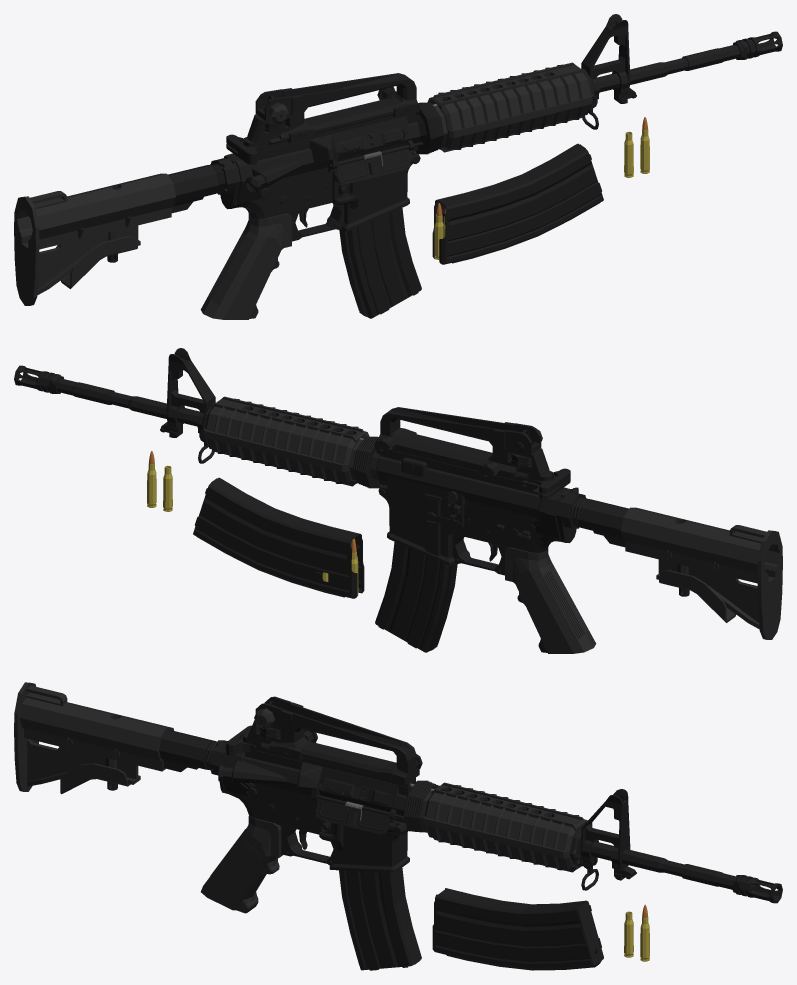
Rendered from colt_m4a1.glb.
3 views of the same model, one above another, from view 1: azimuth 30°, elevation 25°; view 2: azimuth 150°, elevation 25°; view 3: azimuth 330°, elevation 25° (orthographic).
Parts seen in each view (by area): view 1: m4a1 stock _14, 55645 ar15 30rnd mag (steel)_12, m4a1 lower receiver_0, m4a1 handguard_15, m4a1 carry handle_18, 55645 ar15 30rnd mag empty (steel)_13, m4a1 upper receiver_16, m4a1 barrel_9, m4a1 pistol grip_8, m4a1 dust cover_7, m4a1 bolt carrier_5, m4a1 flash hider_17 (+1 smaller); view 2: m4a1 stock _14, 55645 ar15 30rnd mag (steel)_12, m4a1 lower receiver_0, m4a1 handguard_15, m4a1 carry handle_18, m4a1 upper receiver_16, 55645 ar15 30rnd mag empty (steel)_13, m4a1 barrel_9, m4a1 pistol grip_8, m4a1 flash hider_17, m4a1 charging handle_3; view 3: m4a1 stock _14, 55645 ar15 30rnd mag (steel)_12, m4a1 lower receiver_0, m4a1 handguard_15, m4a1 carry handle_18, 55645 ar15 30rnd mag empty (steel)_13, m4a1 upper receiver_16, m4a1 barrel_9, m4a1 pistol grip_8, m4a1 dust cover_7, m4a1 flash hider_17, m4a1 bolt carrier_5.
Boxes of the visible parts, <box> form: m4a1 stock _14: <box>14,173,175,305</box>; 55645 ar15 30rnd mag (steel)_12: <box>432,143,603,264</box>; m4a1 lower receiver_0: <box>113,150,420,241</box>; m4a1 handguard_15: <box>427,62,594,152</box>; m4a1 carry handle_18: <box>247,73,419,143</box>; 55645 ar15 30rnd mag empty (steel)_13: <box>339,208,421,318</box>; m4a1 upper receiver_16: <box>243,113,426,192</box>; m4a1 barrel_9: <box>415,14,740,154</box>; m4a1 pistol grip_8: <box>200,213,291,319</box>; m4a1 dust cover_7: <box>329,142,422,184</box>; m4a1 bolt carrier_5: <box>335,129,404,155</box>; m4a1 flash hider_17: <box>733,31,782,59</box>; m4a1 stock _14: <box>621,507,782,639</box>; 55645 ar15 30rnd mag (steel)_12: <box>193,477,364,598</box>; m4a1 lower receiver_0: <box>378,484,683,575</box>; m4a1 handguard_15: <box>202,396,369,486</box>; m4a1 carry handle_18: <box>374,407,549,482</box>; m4a1 upper receiver_16: <box>370,449,578,521</box>; 55645 ar15 30rnd mag empty (steel)_13: <box>375,542,457,652</box>; m4a1 barrel_9: <box>56,348,381,488</box>; m4a1 pistol grip_8: <box>505,547,596,653</box>; m4a1 flash hider_17: <box>14,365,63,393</box>; m4a1 charging handle_3: <box>522,468,570,498</box>; m4a1 stock _14: <box>14,682,173,794</box>; 55645 ar15 30rnd mag (steel)_12: <box>432,888,603,970</box>; m4a1 lower receiver_0: <box>111,716,409,872</box>; m4a1 handguard_15: <box>420,782,587,872</box>; m4a1 carry handle_18: <box>247,696,422,785</box>; 55645 ar15 30rnd mag empty (steel)_13: <box>339,868,421,970</box>; m4a1 upper receiver_16: <box>218,732,417,830</box>; m4a1 barrel_9: <box>403,780,735,890</box>; m4a1 pistol grip_8: <box>201,815,282,913</box>; m4a1 dust cover_7: <box>311,794,404,834</box>; m4a1 flash hider_17: <box>732,875,782,903</box>; m4a1 bolt carrier_5: <box>321,779,391,805</box>.
Size of the model in its own units: 8.21 by 2.53 by 0.6602.
